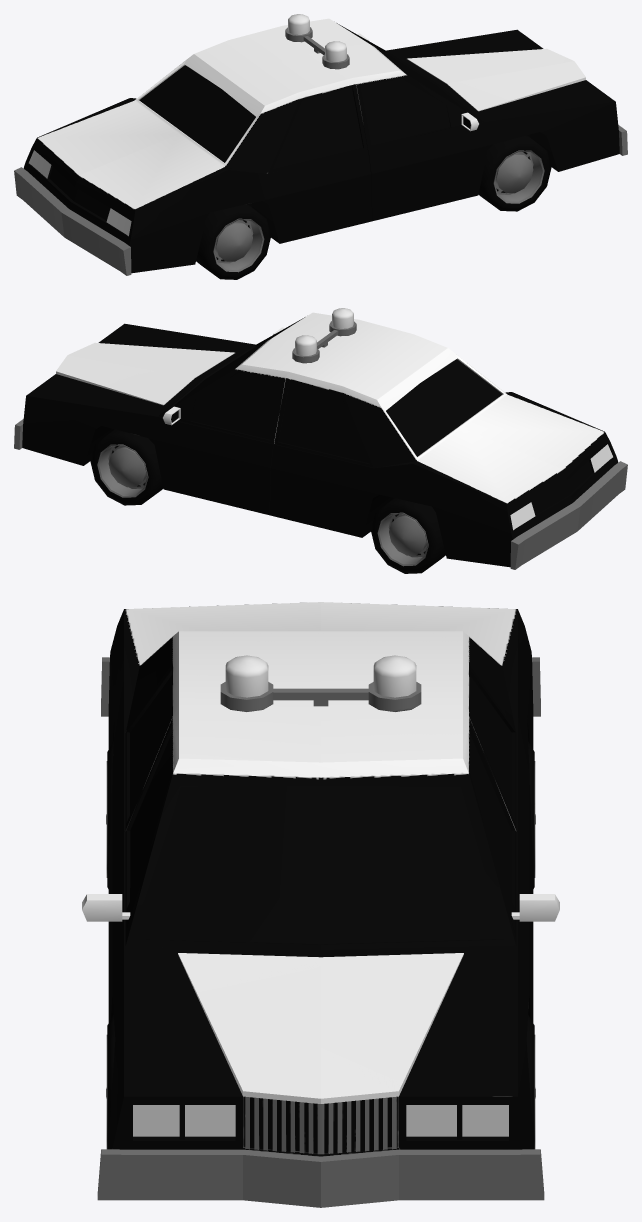
The model's file is police car.fbx.
The picture shows the model from 3 angles, top to bottom: view 1: azimuth 30°, elevation 25°; view 2: azimuth 150°, elevation 25°; view 3: azimuth 270°, elevation 25°; orthographic projection. The views are drawn at different scales.
Visible parts, largest first — view 1: Car; view 2: Car; view 3: Car.
Part boxes in pixels (x1,y1,x2,y2): Car: (14,14,627,279); Car: (14,308,627,573); Car: (82,602,559,1207).
Bounding box in the file's own units: 615 × 205 × 246.
